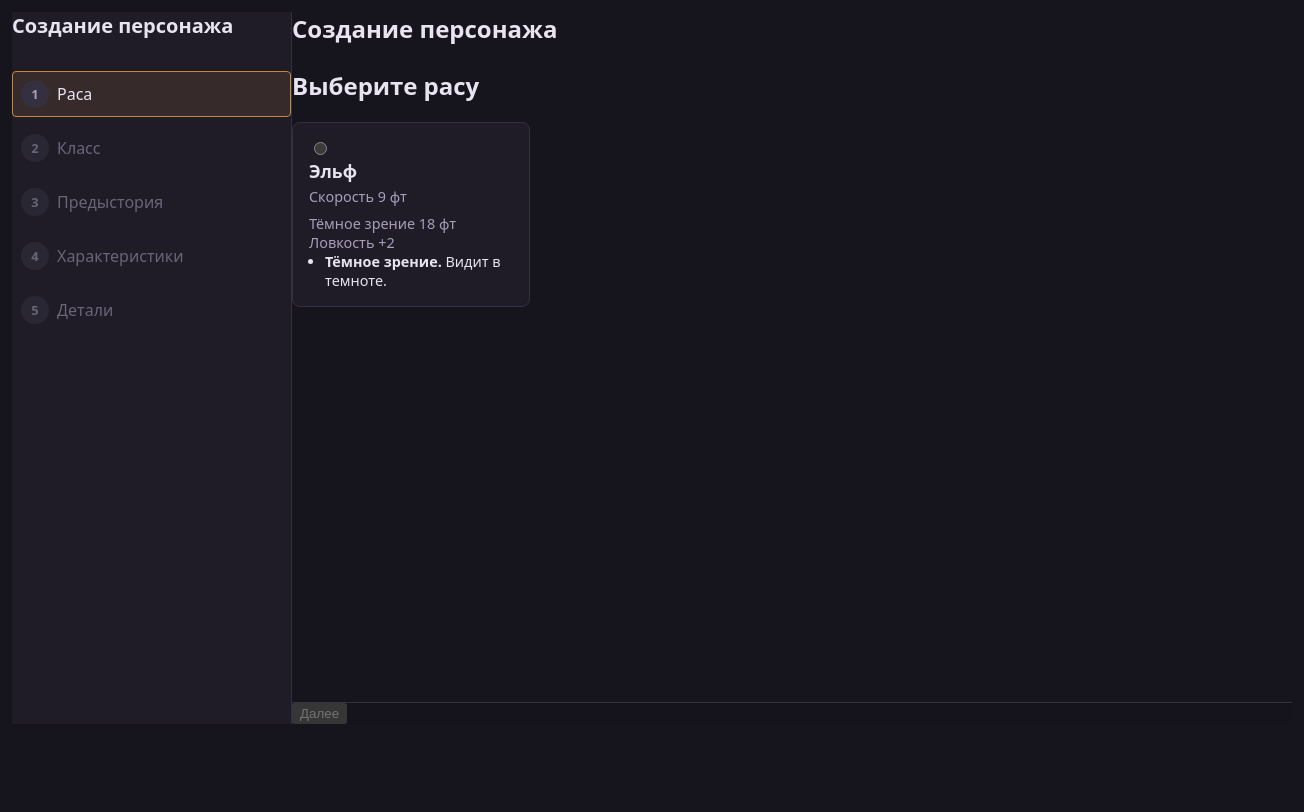
CharacterWizardPage › keeps future steps disabled and allows returning to a completed step
The width and height of the screenshot is (1304, 812).
Expected: the button "2 Класс" is disabled, [12,125,291,171]
Click the radio button at (320, 148), box [314,142,327,155]
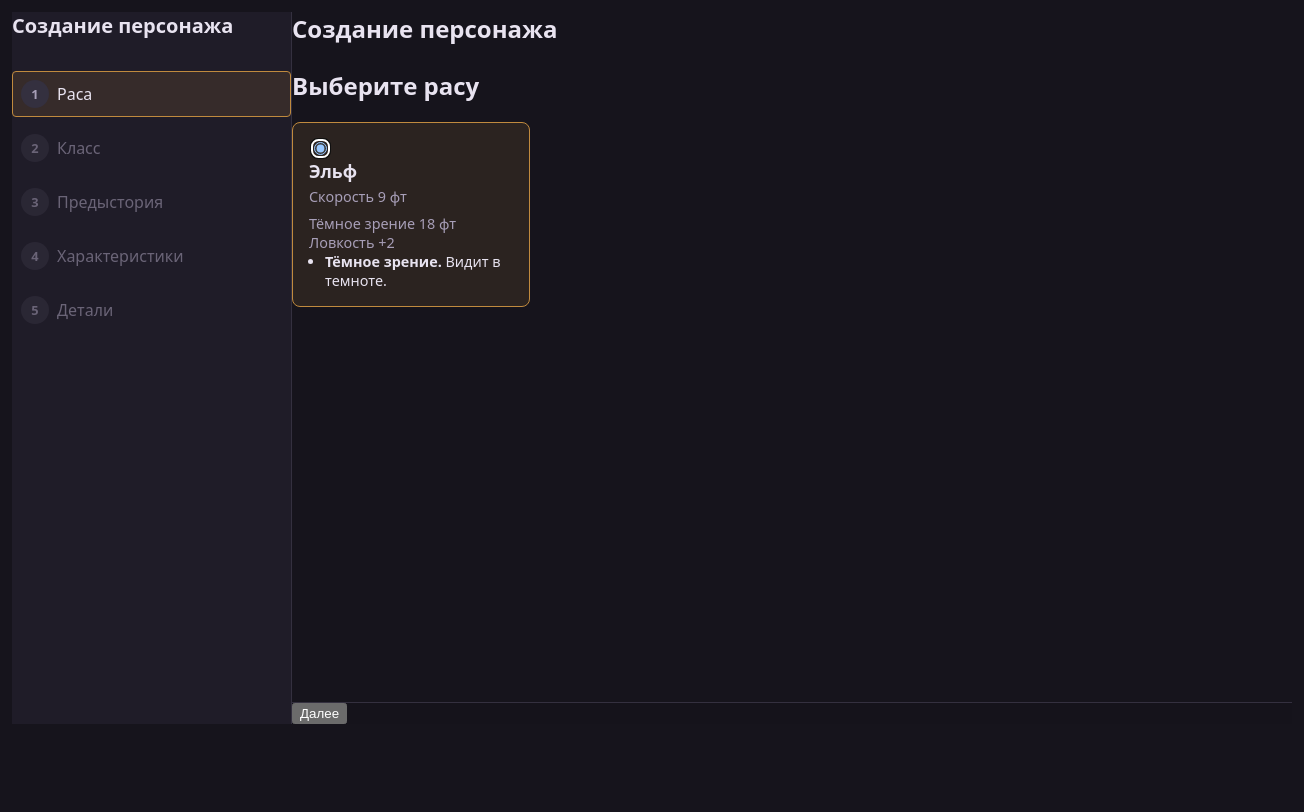
Click the button "Далее" at (320, 714), box [292,703,347,724]
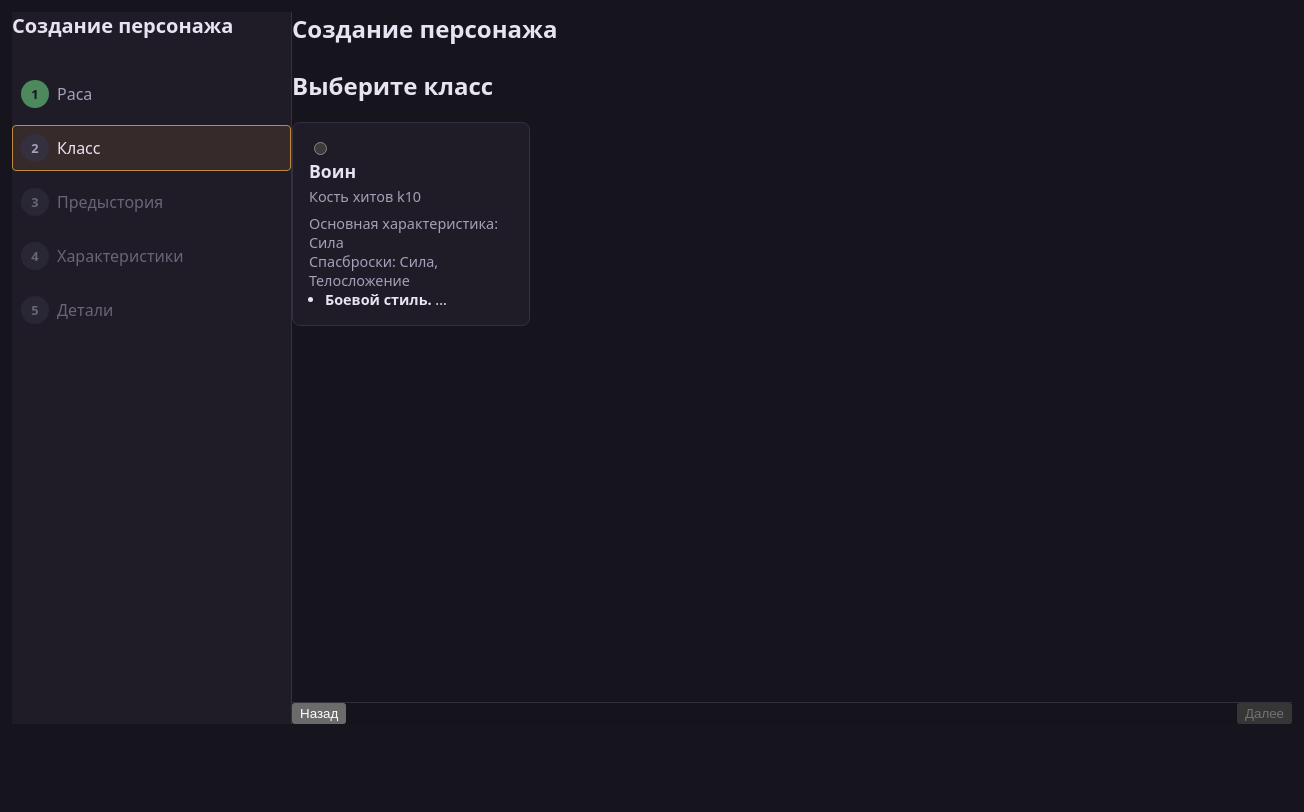
Now the heading "Выберите класс" is shown, box [292,69,493,102]
Click the button "1 Раса" at (75, 94), box [12,71,291,117]
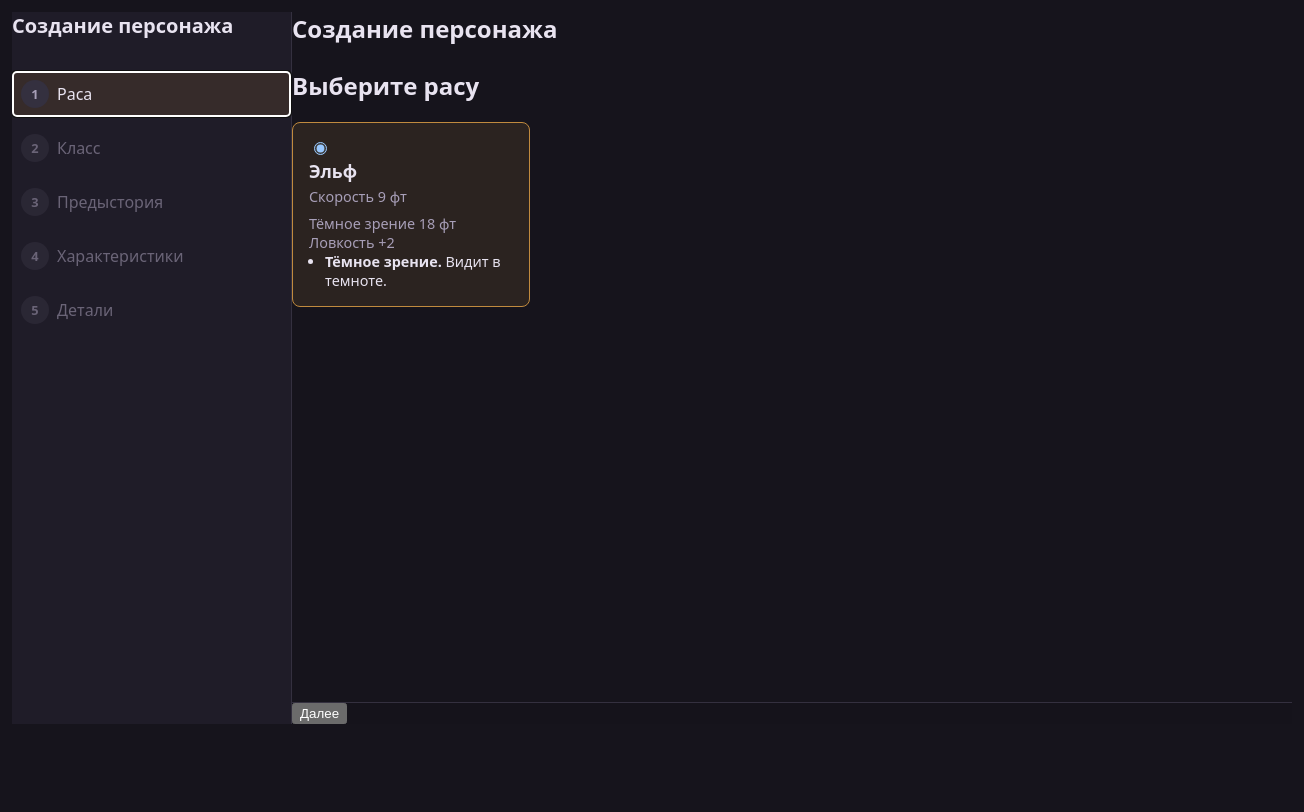
Now the heading "Выберите расу" is shown, box [292,69,479,102]
Now the radio button labelled "Эльф" is checked, box [314,142,327,155]
